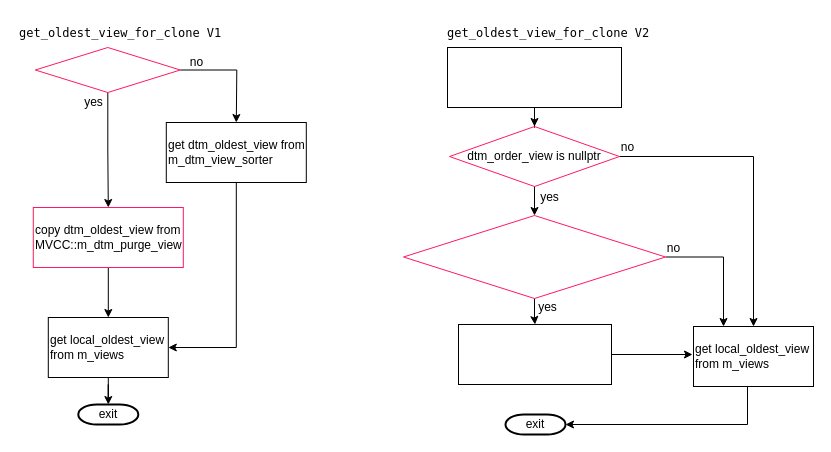
This 831x452 diagram has some shape labels left out. Here are the shapes that lost their labels. From the top down, the centre of each, then its label:
At point (107, 69): "datanode is slave".
At point (534, 77): "dtm_order_view = Get_Oldest_Dtm_ReadView".
At point (534, 256): "purge_sys.view.dtm_purged_id < MVCC::m_dtm_purge_view. dtm_purged_id".
At point (535, 354): "dtm_order_view = MVCC::m_dtm_purge_view".
